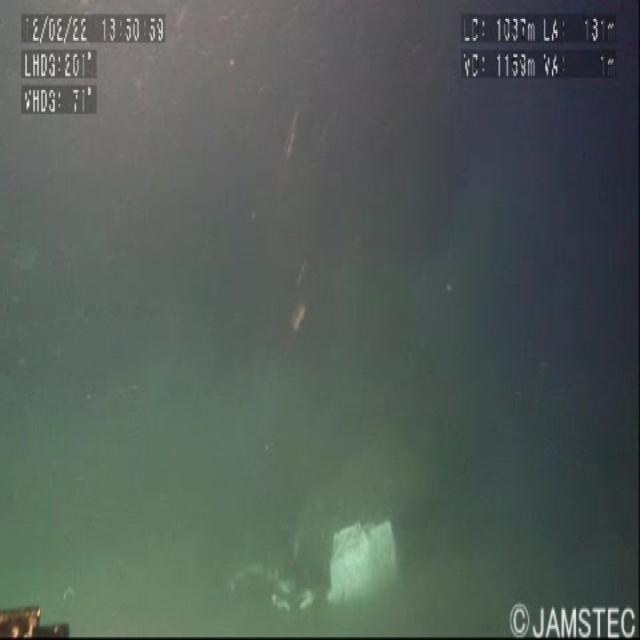Plastic: (323, 516, 410, 627)
